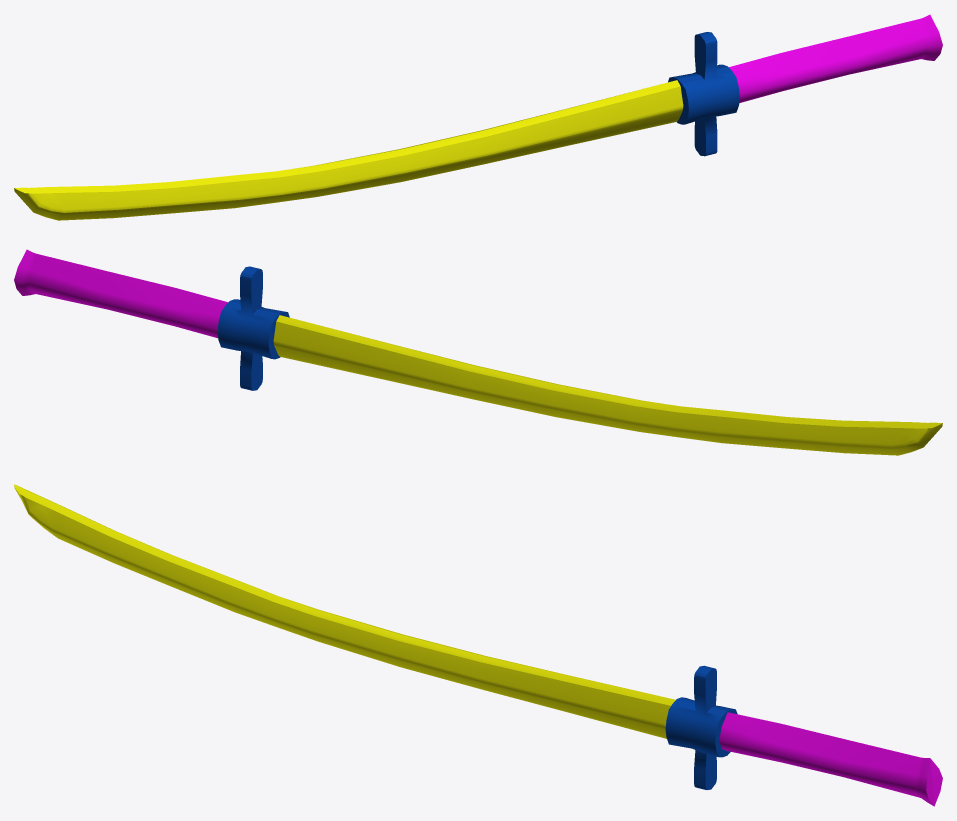
Rendered from Katana.fbx.
3 views of the same model, one above another, from view 1: azimuth 30°, elevation 25°; view 2: azimuth 150°, elevation 25°; view 3: azimuth 330°, elevation 25° (orthographic).
Parts seen in each view (by area): view 1: polySurface22; view 2: polySurface22; view 3: polySurface22.
Part boxes in pixels (x1,y1,x2,y2): polySurface22: (14,14,942,220); polySurface22: (14,249,942,455); polySurface22: (14,484,942,806).
Bounding box in the file's own units: 11.09 × 1.55 × 0.5054.
